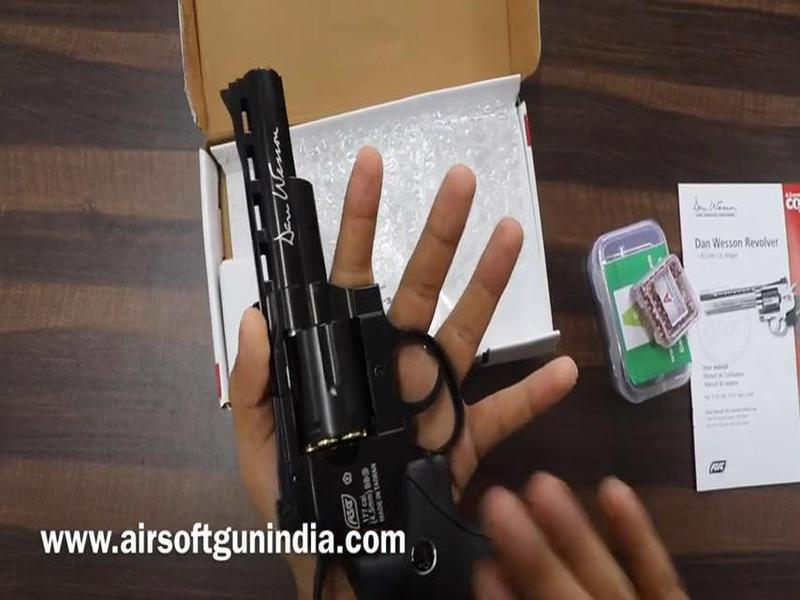Revolver: (197, 58, 555, 600)
